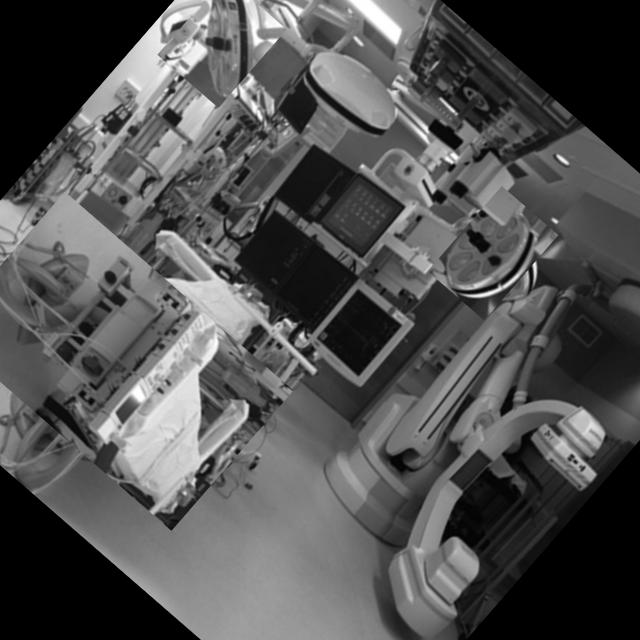Bed: (1, 189, 291, 535)
C_arm: (278, 252, 640, 640)
Light: (427, 188, 560, 321), (290, 36, 416, 158), (156, 1, 288, 109)
